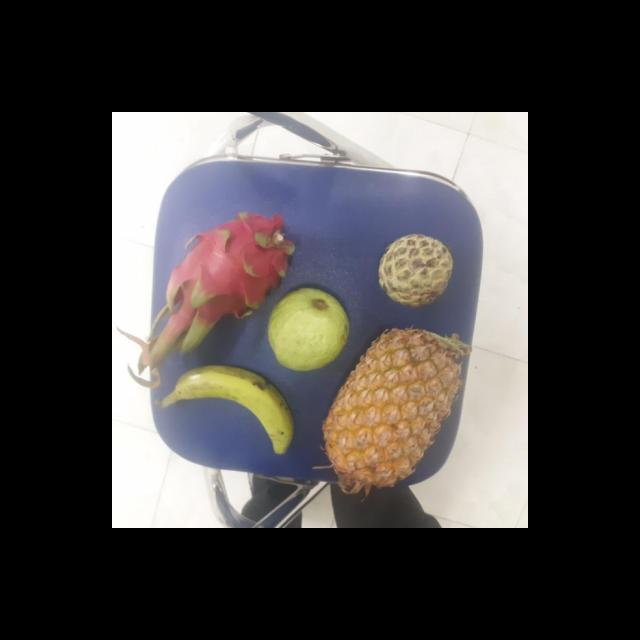Sakya fruit: (374, 233, 454, 306)
guava: (264, 285, 348, 369)
pineapple: (320, 333, 462, 485)
pitaya: (168, 210, 290, 320)
